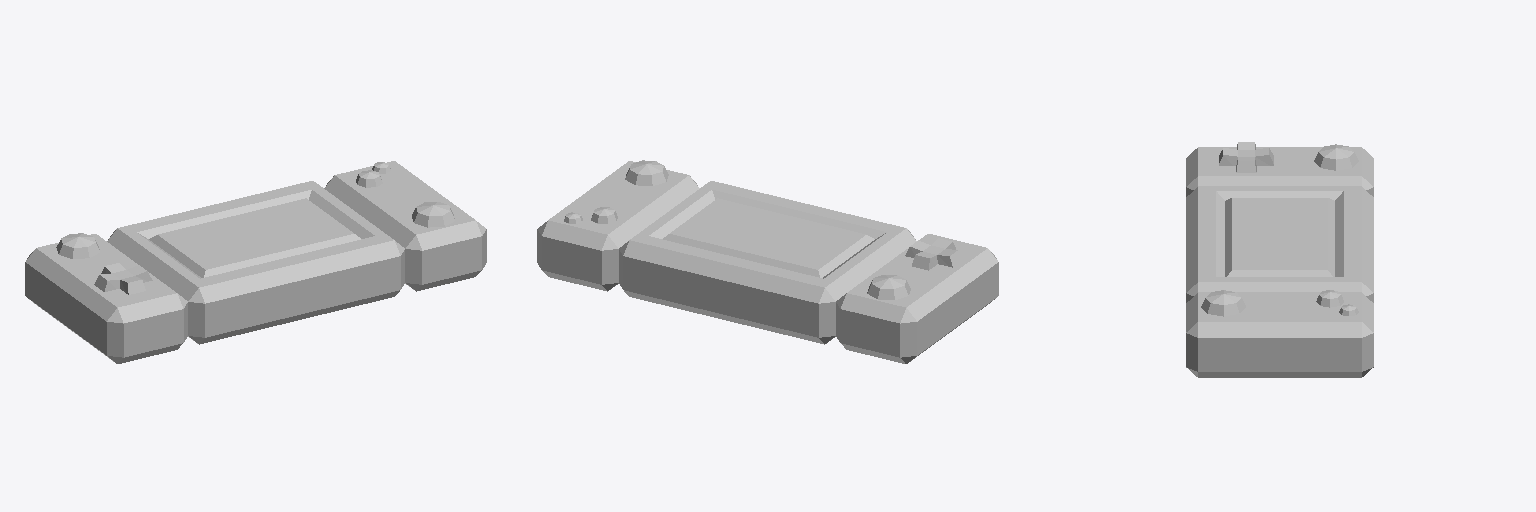
The model's file is gameconsole_handheld.obj.
3 views of the same model, side by side, from view 1: azimuth 30°, elevation 25°; view 2: azimuth 150°, elevation 25°; view 3: azimuth 270°, elevation 25° (orthographic).
Parts seen in each view (by area): view 1: gameconsole_handheld_Cube.18248; view 2: gameconsole_handheld_Cube.18248; view 3: gameconsole_handheld_Cube.18248.
Boxes of the visible parts, x1,y1,x2,y2 form: gameconsole_handheld_Cube.18248: [25, 161, 486, 363]; gameconsole_handheld_Cube.18248: [537, 160, 998, 363]; gameconsole_handheld_Cube.18248: [1186, 142, 1373, 377].
Size of the model in its own units: 1.05 by 0.1845 by 0.45.